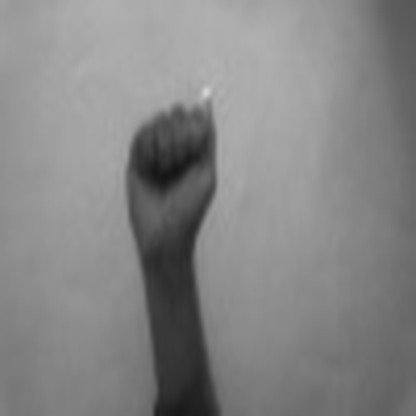a: (117, 90, 228, 254)
